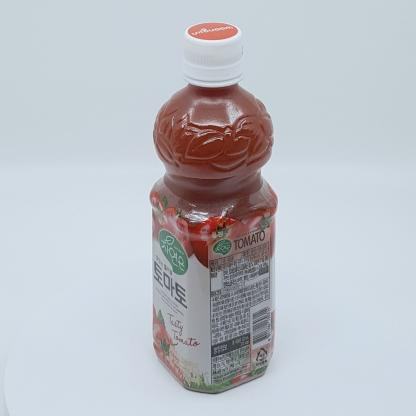--------500ML: (149, 22, 279, 394)
